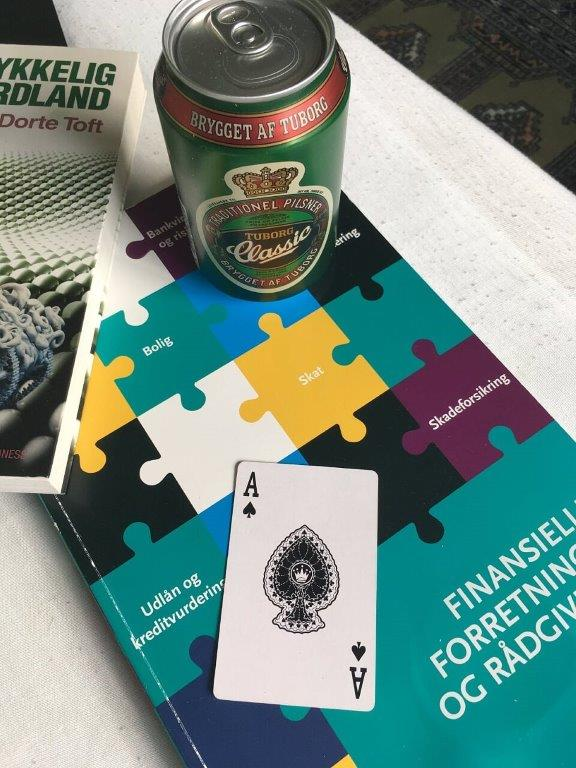AS: (207, 457, 382, 716)
